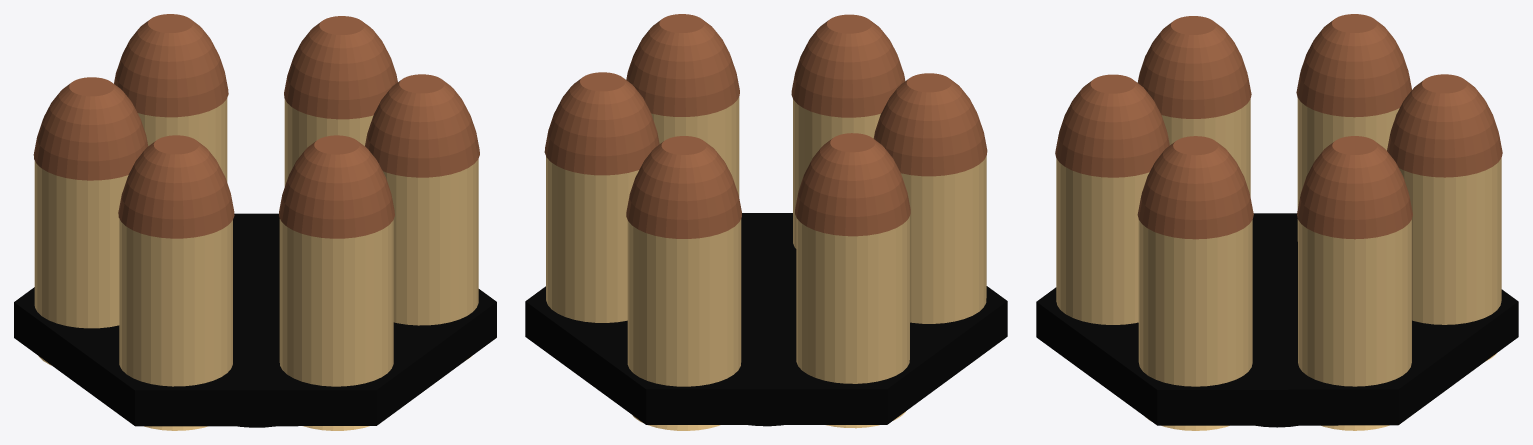
The model's file is revolver_ammobox.fbx.
3 views of the same model, side by side, from view 1: azimuth 30°, elevation 25°; view 2: azimuth 150°, elevation 25°; view 3: azimuth 270°, elevation 25° (orthographic).
Visible parts, largest first — view 1: Cube.021, Cube.020; view 2: Cube.021, Cube.020; view 3: Cube.021, Cube.020.
Part boxes in pixels (bbox=[...]): Cube.021: bbox=[33, 14, 479, 430]; Cube.020: bbox=[14, 213, 496, 427]; Cube.021: bbox=[544, 14, 987, 430]; Cube.020: bbox=[525, 213, 1007, 426]; Cube.021: bbox=[1055, 14, 1502, 430]; Cube.020: bbox=[1036, 213, 1518, 427].
Bounding box in the file's own units: 7.62 × 8.8 × 6.37.
